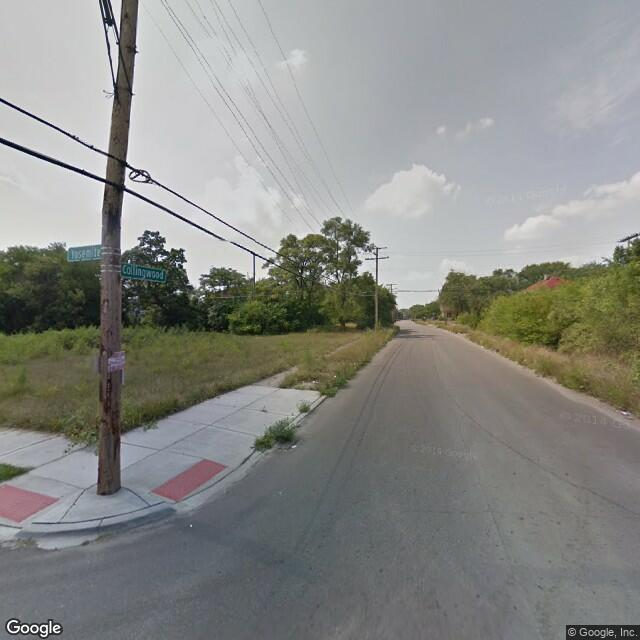litter: (291, 443, 299, 450), (621, 409, 627, 417), (190, 519, 192, 529)
